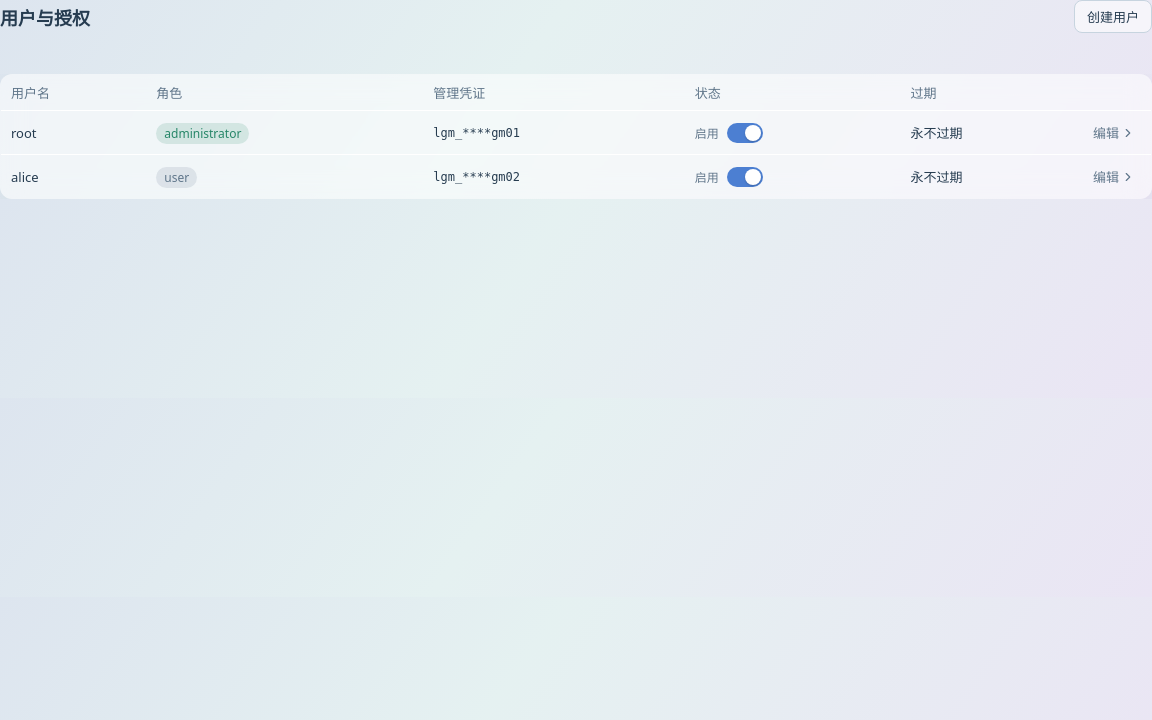
it: UsersPanel（表格列表 + 编辑整页，UI 2.0） › locks the role select for the sole enabled administrator
Click the row "root administrator lgm_****gm01 启用 永不过期 编辑": (576, 132) x1=0 y1=110 x2=1151 y2=154
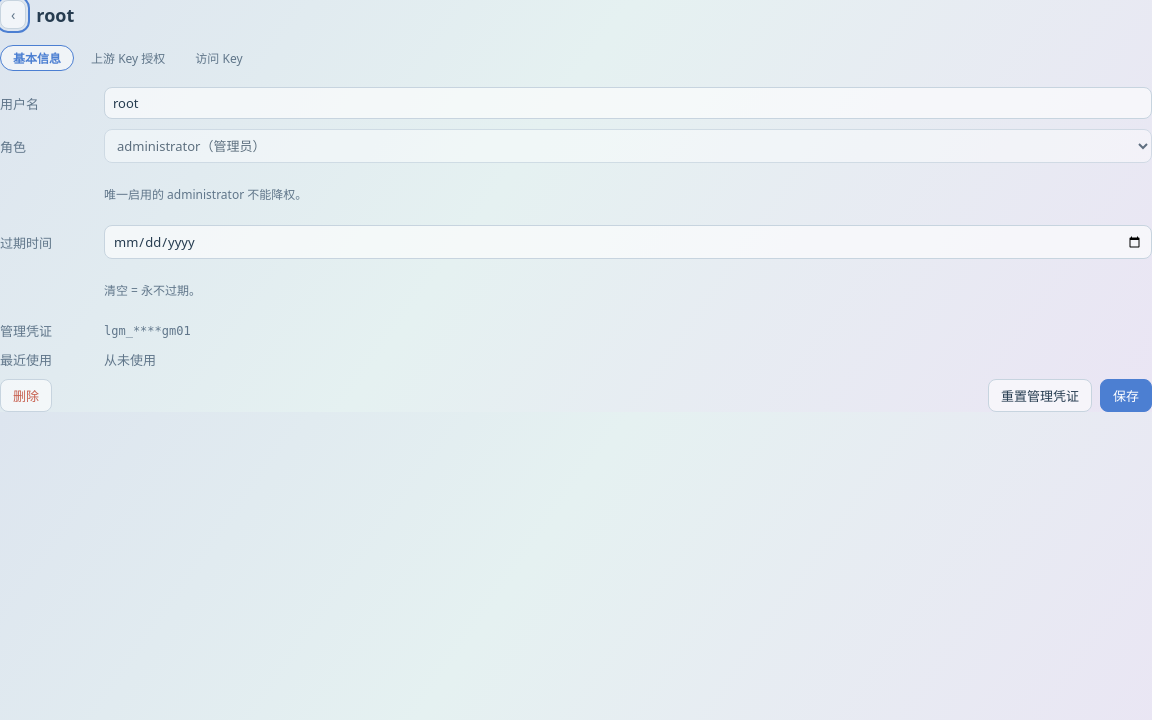
Now the dropdown labelled "角色" is disabled, box x1=104 y1=129 x2=1151 y2=163
Now the text "唯一启用的 administrator 不能降权。" is shown, box x1=104 y1=186 x2=307 y2=203
Click the button named "返回": (13, 14) x1=0 y1=0 x2=26 y2=29
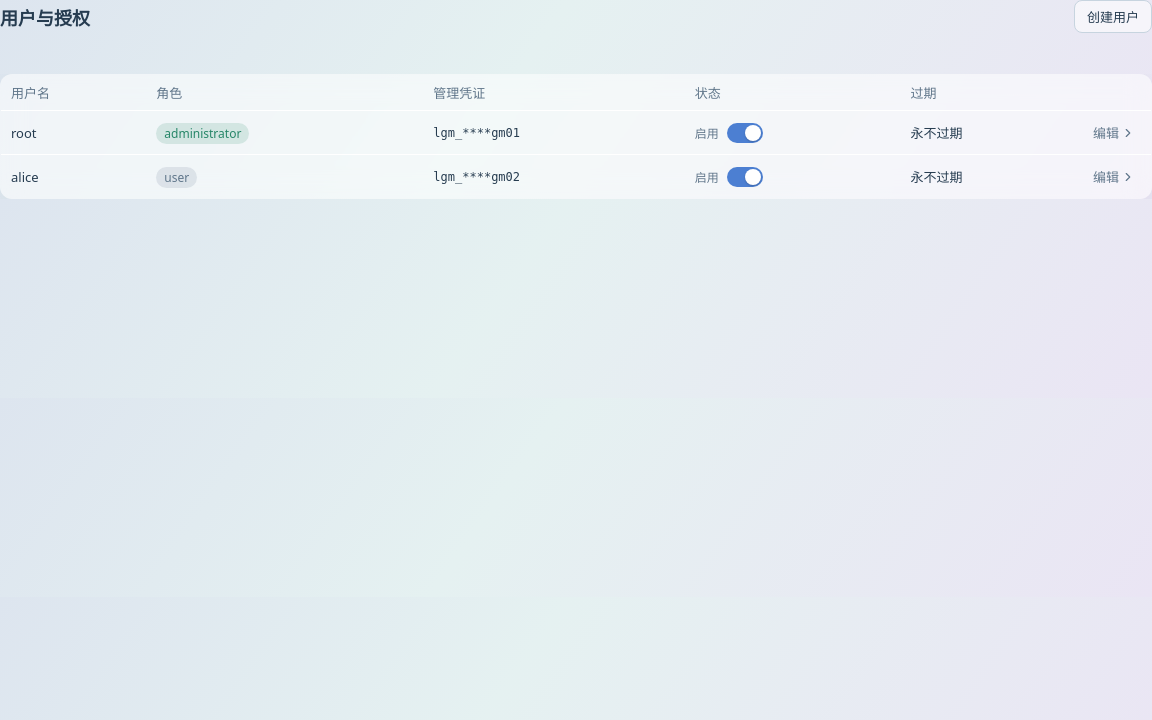
Click the row "alice user lgm_****gm02 启用 永不过期 编辑": (576, 176) x1=0 y1=154 x2=1151 y2=198
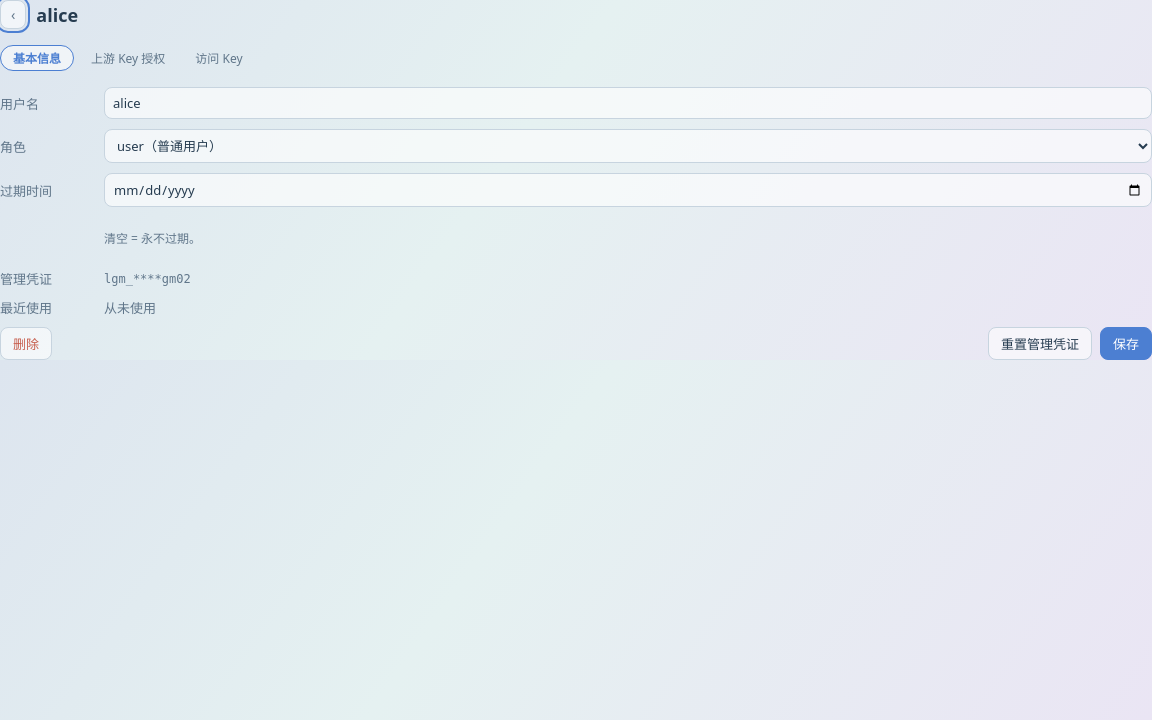
Now the dropdown labelled "角色" is enabled, box x1=104 y1=129 x2=1151 y2=163
